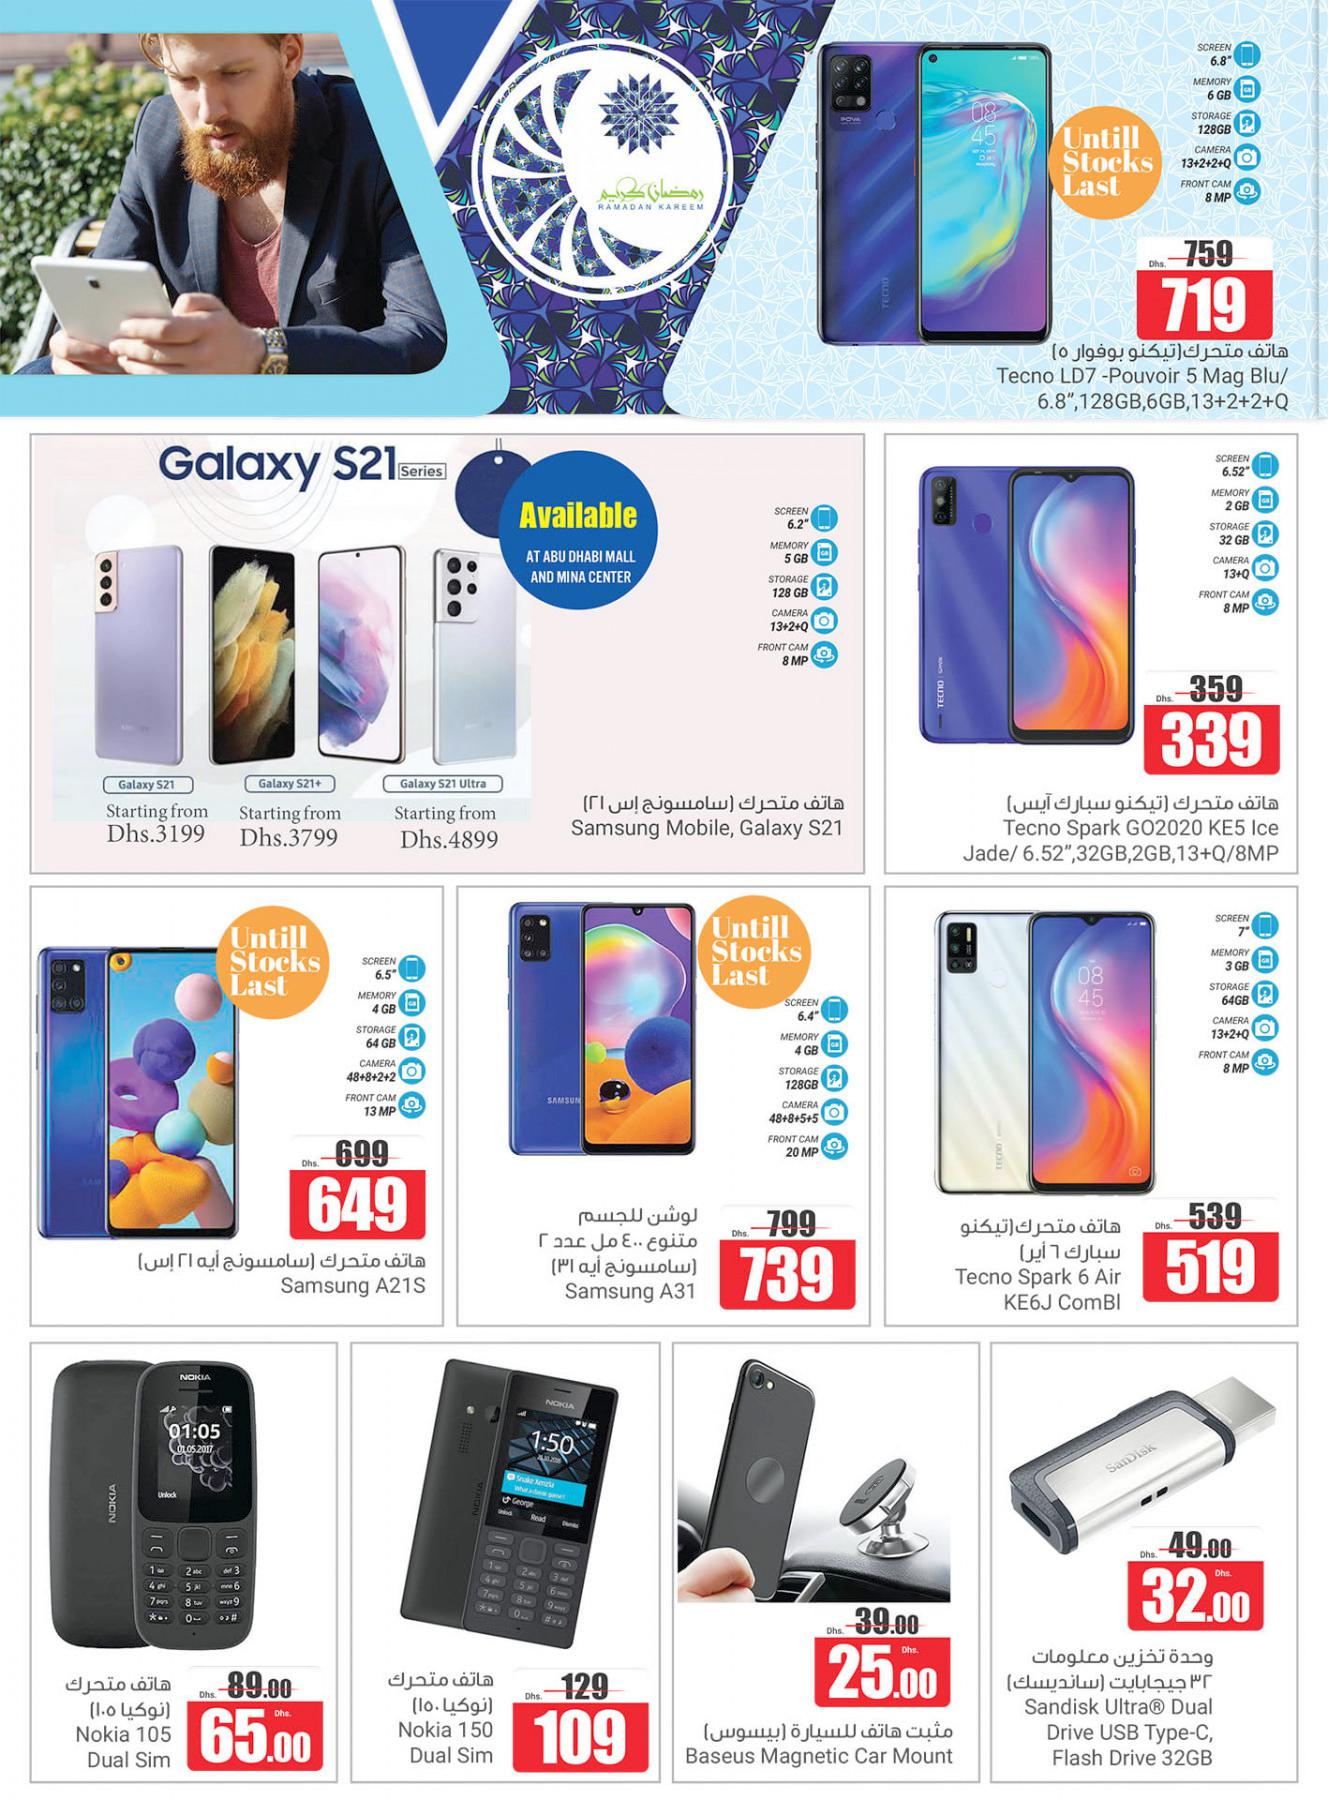text: (995, 1639, 1226, 1780), (953, 780, 1293, 873), (986, 333, 1306, 421), (946, 1206, 1134, 1318), (528, 1198, 712, 1309), (129, 1240, 438, 1305), (561, 783, 853, 850), (678, 1713, 965, 1778), (52, 1666, 185, 1778), (379, 1656, 505, 1773)
